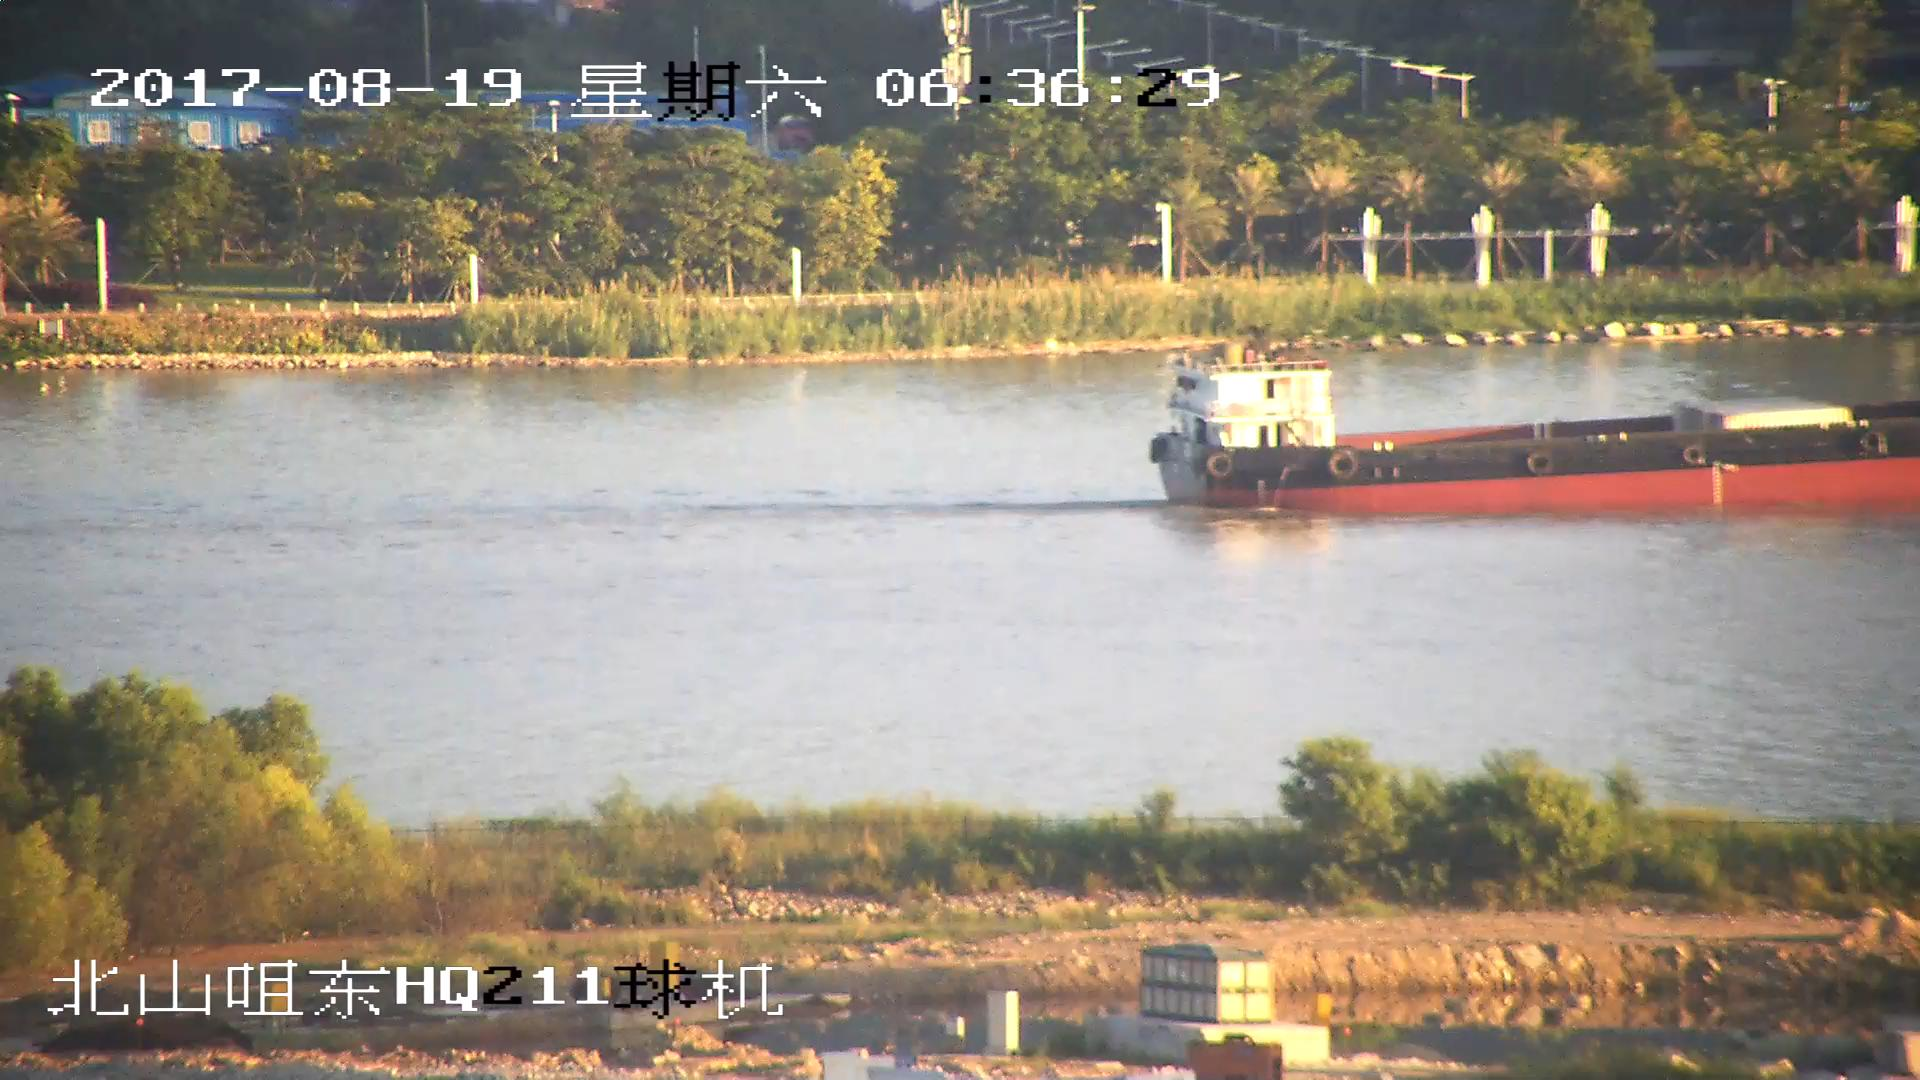general cargo ship: (1159, 360, 1920, 517)
